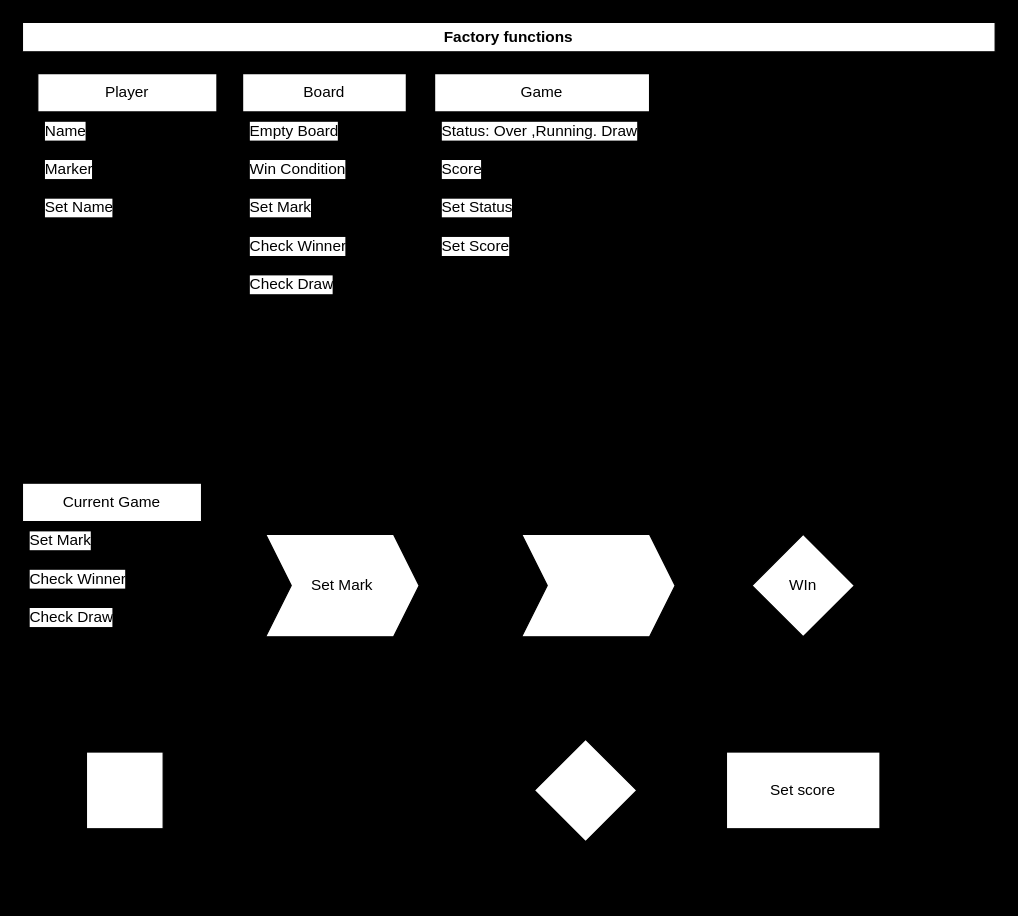
The diagram is 1018 pixels wide and 916 high, and some of its shapes have lost their labels. The centre of each missing label's shape, as x and y in pixels:
"Check winner Check Draw" belongs at point (597, 585).
"Draw" belongs at point (585, 790).
"Reset" belongs at point (124, 790).
